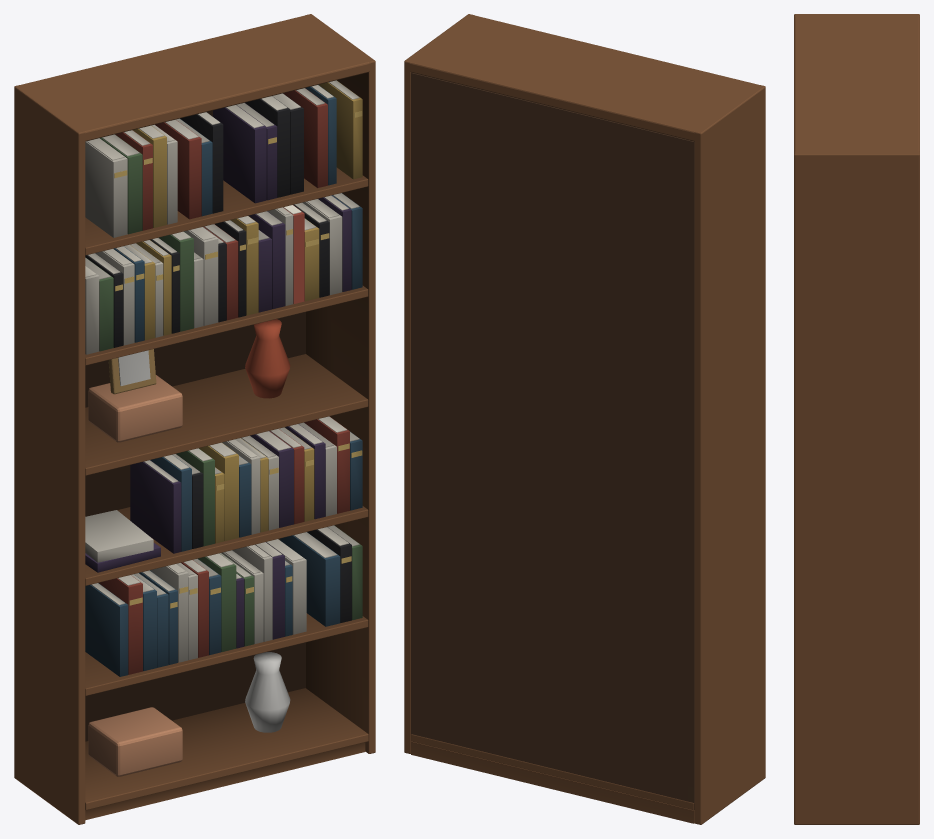
Rendered from bookcaseTall.glb.
3 views of the same model, side by side, from view 1: azimuth 30°, elevation 25°; view 2: azimuth 150°, elevation 25°; view 3: azimuth 270°, elevation 25° (orthographic). The views are drawn at different scales.
Parts seen in each view (by area): view 1: bookcaseTall, book; view 2: bookcaseTall; view 3: bookcaseTall.
Part boxes in pixels (x1,y1,x2,y2): bookcaseTall: (14, 14, 375, 824); book: (283, 205, 304, 303); bookcaseTall: (404, 14, 765, 824); bookcaseTall: (794, 14, 919, 824).
Size of the model in its own units: 0.9 by 2 by 0.34.
